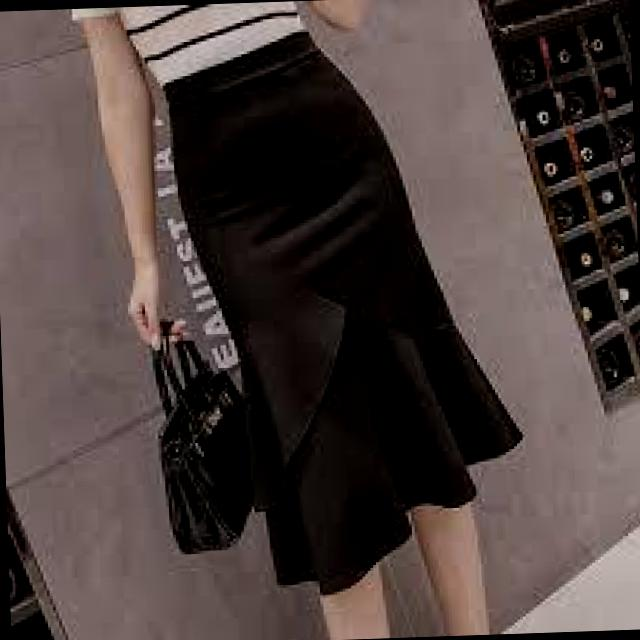skirt: (114, 9, 532, 600)
